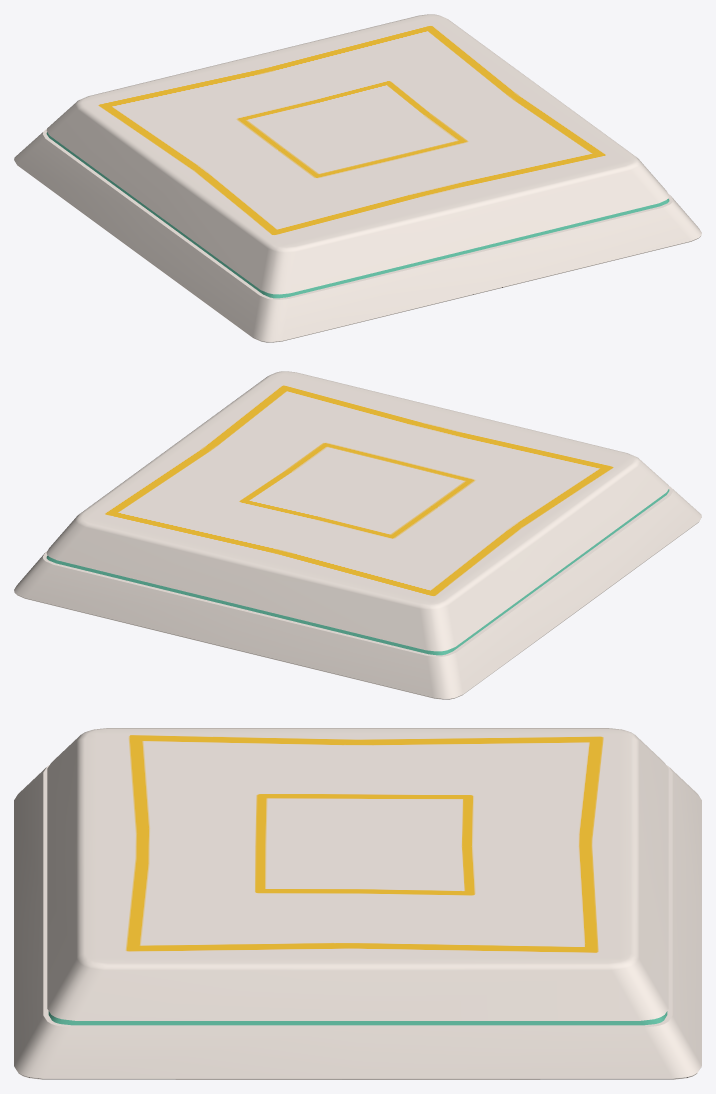
File: Box_platform.fbx
3 renders of one model, top to bottom at view 1: azimuth 30°, elevation 25°; view 2: azimuth 150°, elevation 25°; view 3: azimuth 270°, elevation 25°, orthographic. The views are drawn at different scales.
Parts seen in each view (by area): view 1: Box_platform; view 2: Box_platform; view 3: Box_platform.
Boxes of the visible parts, box(x1,y1,x2,y2) form: Box_platform: box(14, 14, 701, 342); Box_platform: box(14, 371, 701, 699); Box_platform: box(14, 728, 701, 1079).
Size of the model in its own units: 18.24 by 2.59 by 18.24.
